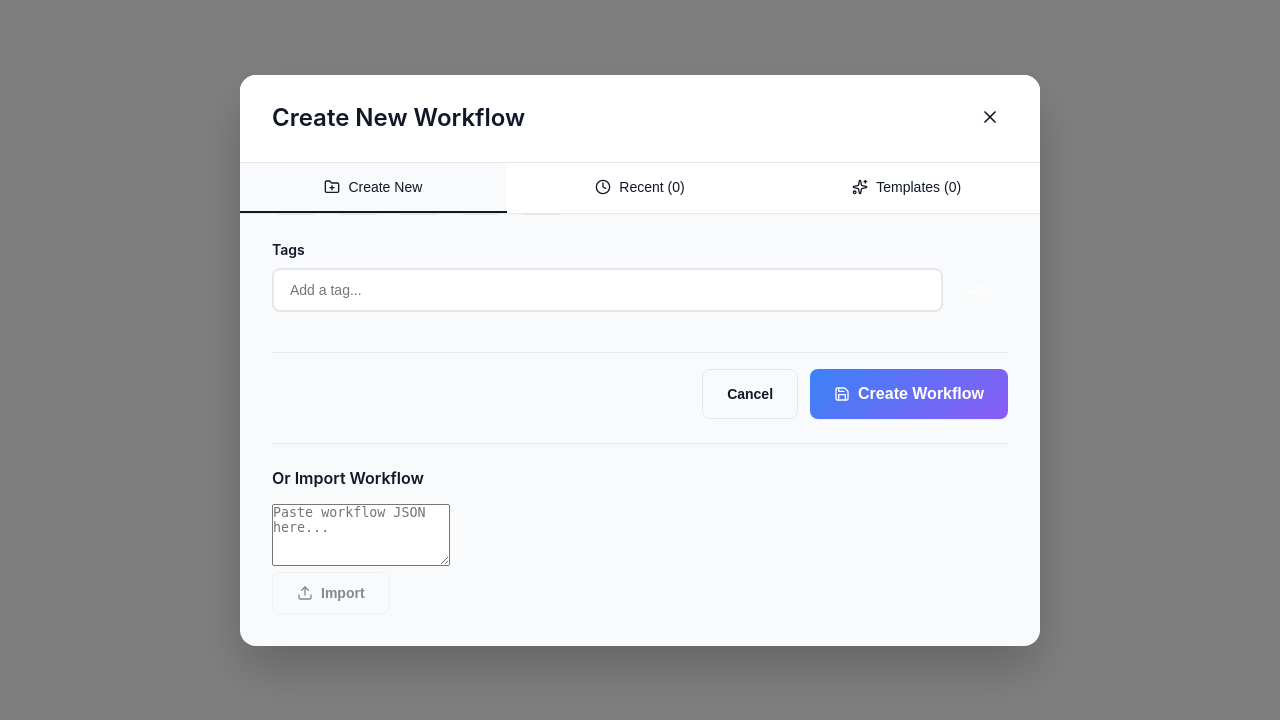
Test: WorkflowModal Component › Import/Export Functionality › should handle import errors
The width and height of the screenshot is (1280, 720).
(page scrolled)
Type "invalid json" into the text box with placeholder "Paste workflow JSON here..." at (361, 534), box [272, 504, 450, 566]
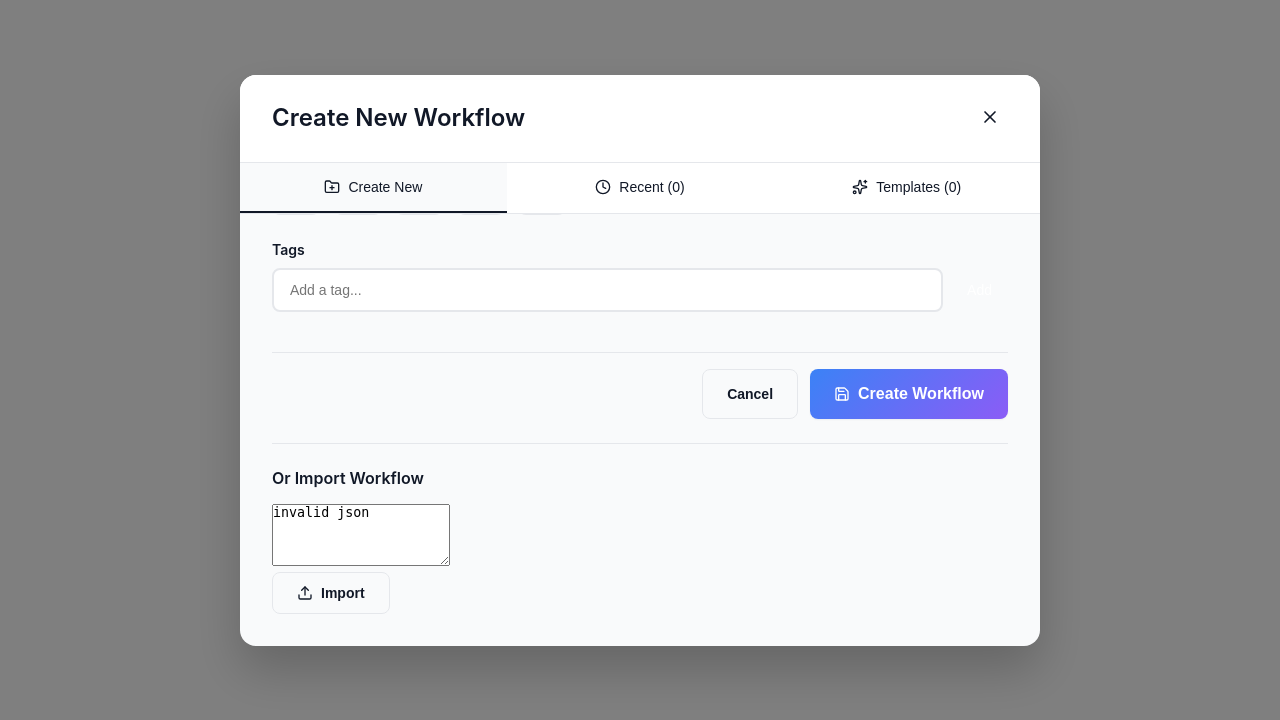
Click the button "Import" at (331, 592), box [272, 572, 390, 614]
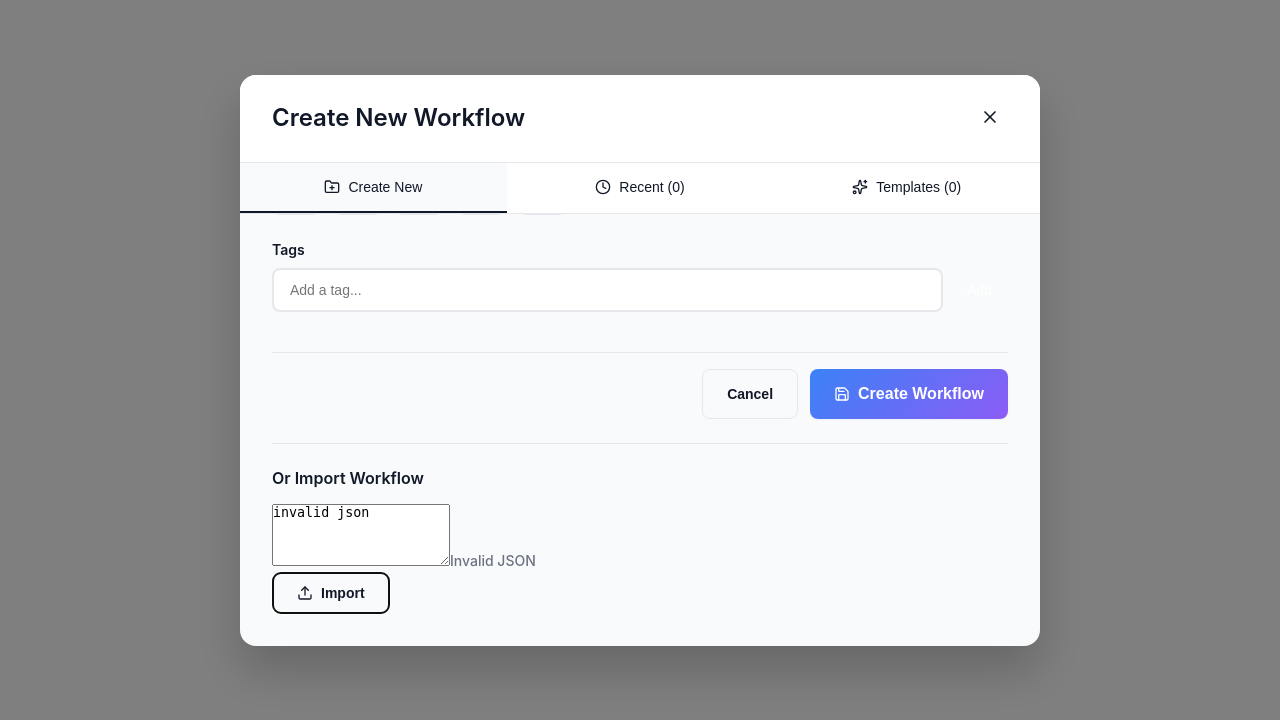
Now the text "Invalid JSON" is shown, box [450, 552, 536, 568]
